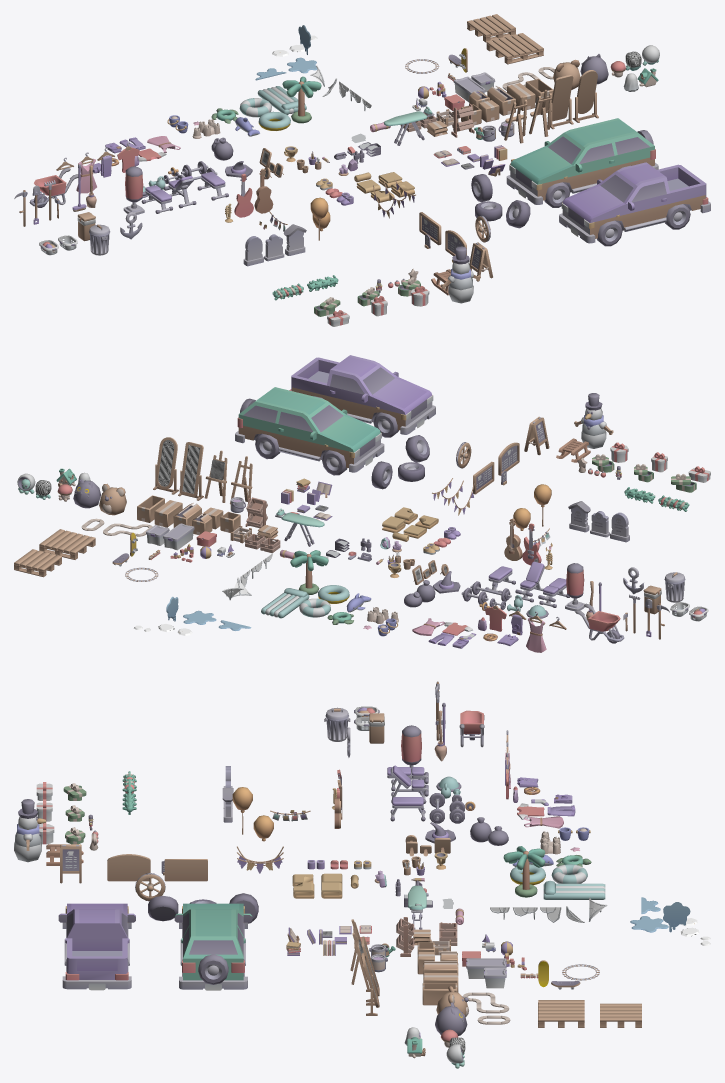
The model's file is accessories.glb.
3 renders of one model, top to bottom at view 1: azimuth 30°, elevation 25°; view 2: azimuth 150°, elevation 25°; view 3: azimuth 270°, elevation 25°, orthographic. The views are drawn at different scales.
Parts seen in each view (by area): view 1: car-flatbed, car, snowman, wooden-pallet-large, mirror-standing, mirror-standing-round, wooden-pallet, pool-palm-tree, wheelbarrow, fitness-punching-bag, pool-bed-floating, ironing-board (+12 smaller); view 2: car, car-flatbed, snowman, wooden-pallet-large, mirror-standing, mirror-standing-round, wheelbarrow, wooden-pallet, pool-bed-floating, pool-palm-tree, fitness-punching-bag, plush-bear (+20 smaller); view 3: car-flatbed, car, snowman, wooden-pallet-large, chalkboard-sign-hanging-curved (%wall), pool-bed-floating, pool-palm-tree, chalkboard-sign-hanging (%wall), wooden-pallet, fitness-punching-bag, wheelbarrow, plush-cat (+4 smaller).
Boxes of the visible parts, x1=… form: car-flatbed: x1=559, y1=162, x2=710, y2=246; car: x1=506, y1=118, x2=658, y2=207; snowman: x1=441, y1=246, x2=480, y2=303; wooden-pallet-large: x1=486, y1=33, x2=543, y2=64; mirror-standing: x1=550, y1=75, x2=573, y2=129; mirror-standing-round: x1=572, y1=70, x2=598, y2=122; wooden-pallet: x1=467, y1=14, x2=515, y2=42; pool-palm-tree: x1=282, y1=76, x2=321, y2=123; wheelbarrow: x1=29, y1=167, x2=78, y2=207; fitness-punching-bag: x1=123, y1=166, x2=144, y2=215; pool-bed-floating: x1=257, y1=86, x2=306, y2=114; ironing-board: x1=384, y1=111, x2=434, y2=145; car: x1=235, y1=387, x2=384, y2=475; car-flatbed: x1=289, y1=355, x2=435, y2=437; snowman: x1=574, y1=393, x2=613, y2=448; wooden-pallet-large: x1=39, y1=529, x2=95, y2=559; mirror-standing: x1=178, y1=442, x2=203, y2=500; mirror-standing-round: x1=153, y1=437, x2=178, y2=494; wheelbarrow: x1=575, y1=603, x2=624, y2=643; wooden-pallet: x1=14, y1=549, x2=61, y2=577; pool-bed-floating: x1=261, y1=588, x2=309, y2=618; pool-palm-tree: x1=290, y1=550, x2=328, y2=594; fitness-punching-bag: x1=565, y1=563, x2=584, y2=611; plush-bear: x1=99, y1=483, x2=126, y2=515; car-flatbed: x1=58, y1=903, x2=135, y2=990; car: x1=174, y1=903, x2=252, y2=990; snowman: x1=14, y1=799, x2=45, y2=862; wooden-pallet-large: x1=538, y1=1000, x2=584, y2=1027; chalkboard-sign-hanging-curved (%wall): x1=107, y1=854, x2=150, y2=881; pool-bed-floating: x1=543, y1=880, x2=605, y2=899; pool-palm-tree: x1=503, y1=846, x2=545, y2=897; chalkboard-sign-hanging (%wall): x1=164, y1=859, x2=207, y2=881; wooden-pallet: x1=600, y1=1003, x2=641, y2=1027; fitness-punching-bag: x1=401, y1=725, x2=421, y2=779; wheelbarrow: x1=459, y1=710, x2=484, y2=747; plush-cat: x1=435, y1=1002, x2=467, y2=1035.
Bounding box in the file's own units: 18.13 × 1.7 × 15.
Materials: 5 (3 with a texture image).
